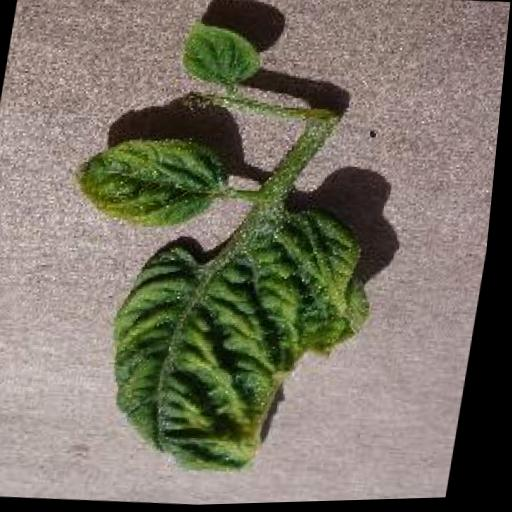Yellow Leaf Curl Virus: (101, 193, 390, 488), (74, 129, 233, 235)
